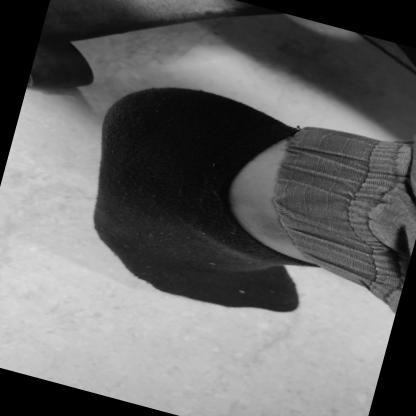ankle: (268, 223, 281, 232)
heel: (161, 92, 176, 101)
pinky: (142, 269, 153, 277)
right_foot: (64, 69, 345, 327)
toe: (280, 291, 294, 301)
